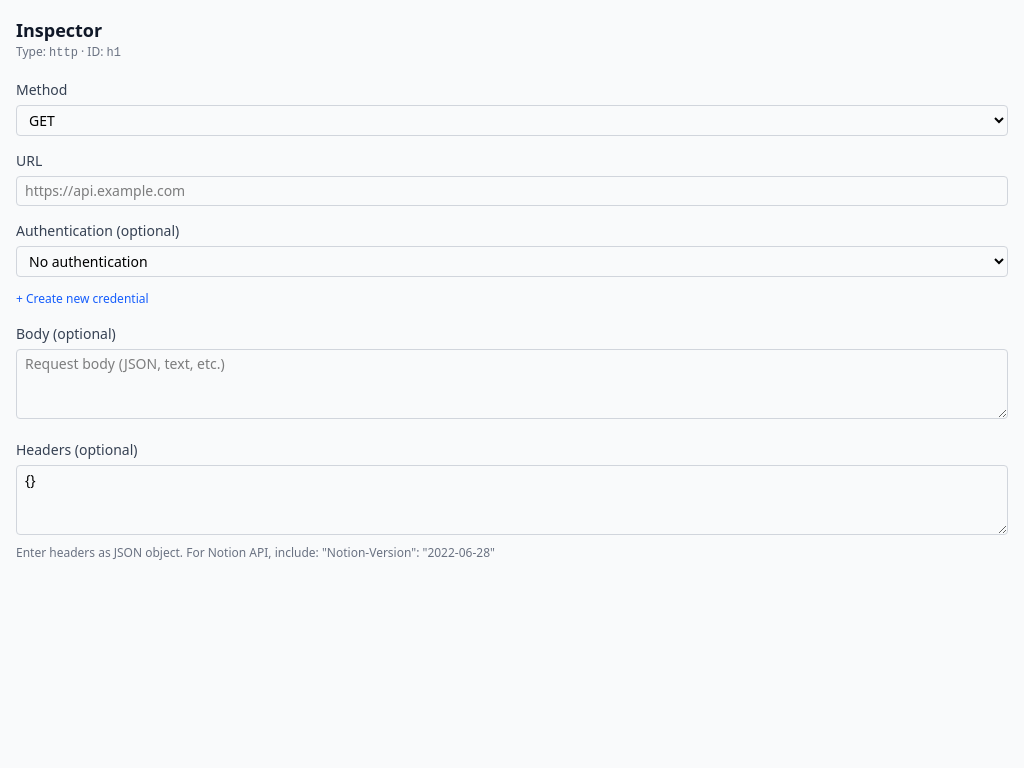
Inspector (shell) › removes error once valid URL is entered
Enter invalid URL first
Type "invalid" into the field with placeholder "https://api.example.com". click: [512, 191]
box: [16,176,1008,206]
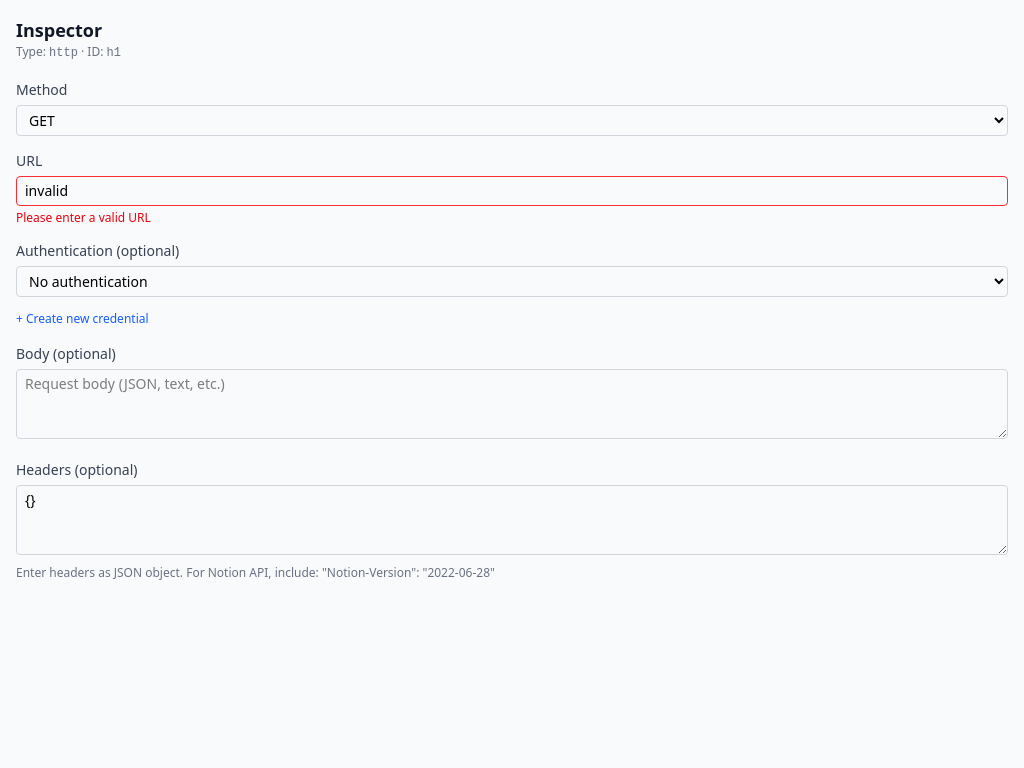
Result: the text "Please enter a valid URL" is shown at [16,209,151,226]
Now enter valid URL
Replace the text in the field with placeholder "https://api.example.com" with "https://api.example.com". click: [512, 191]
box: [16,176,1008,206]
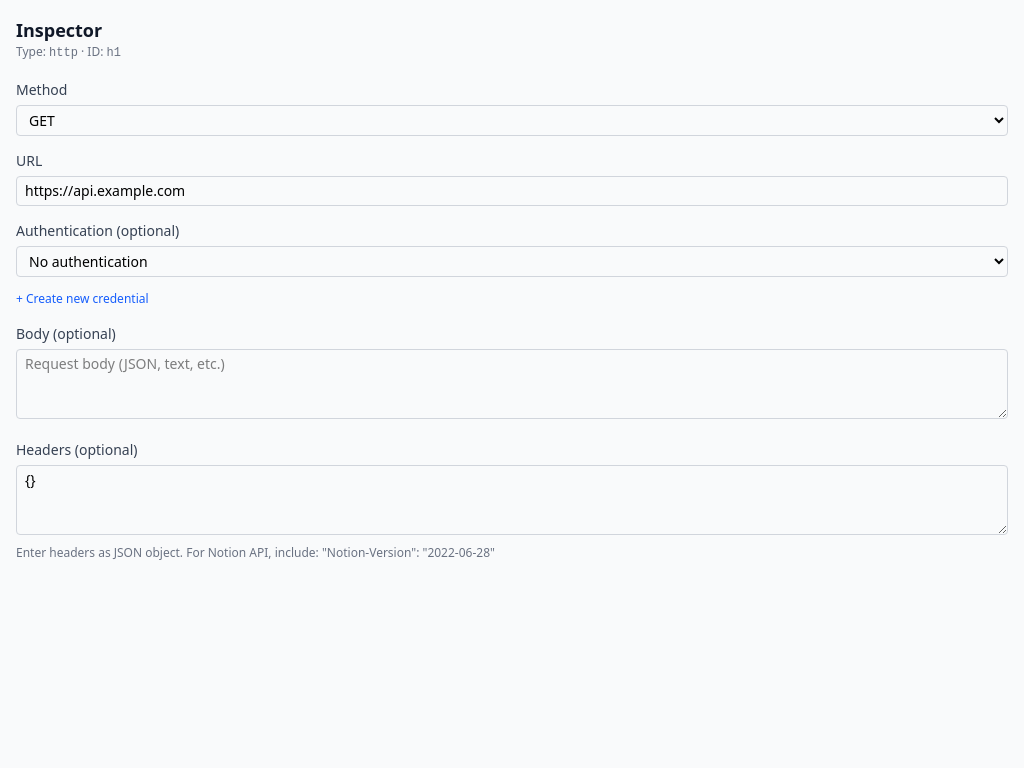
Result: the text "Please enter a valid URL" is gone
